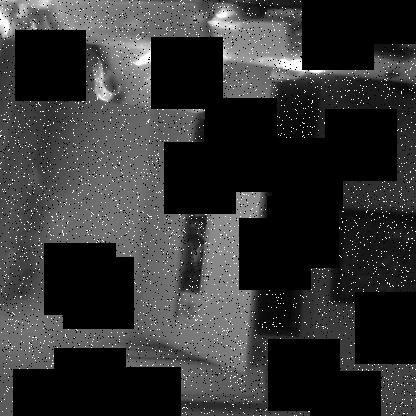Porte: (124, 1, 333, 374)
